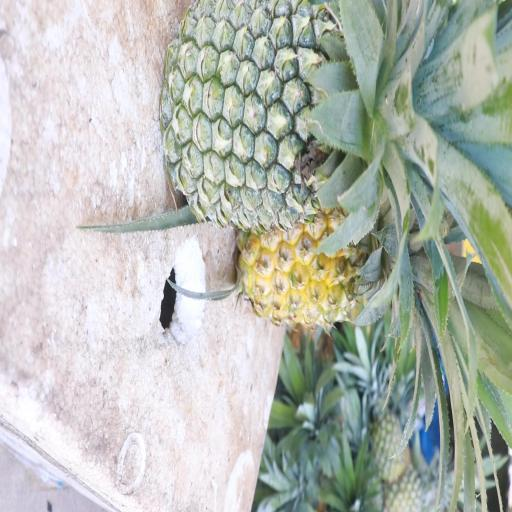Pineapple - v8 v1: (242, 217, 501, 416)
